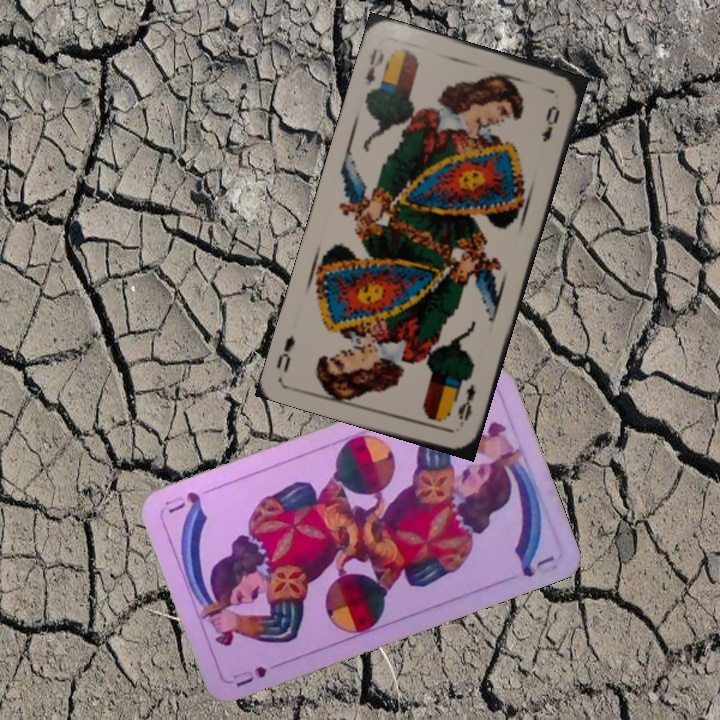EO: (453, 380, 479, 430), (360, 45, 387, 87)
SU: (228, 662, 270, 690)
